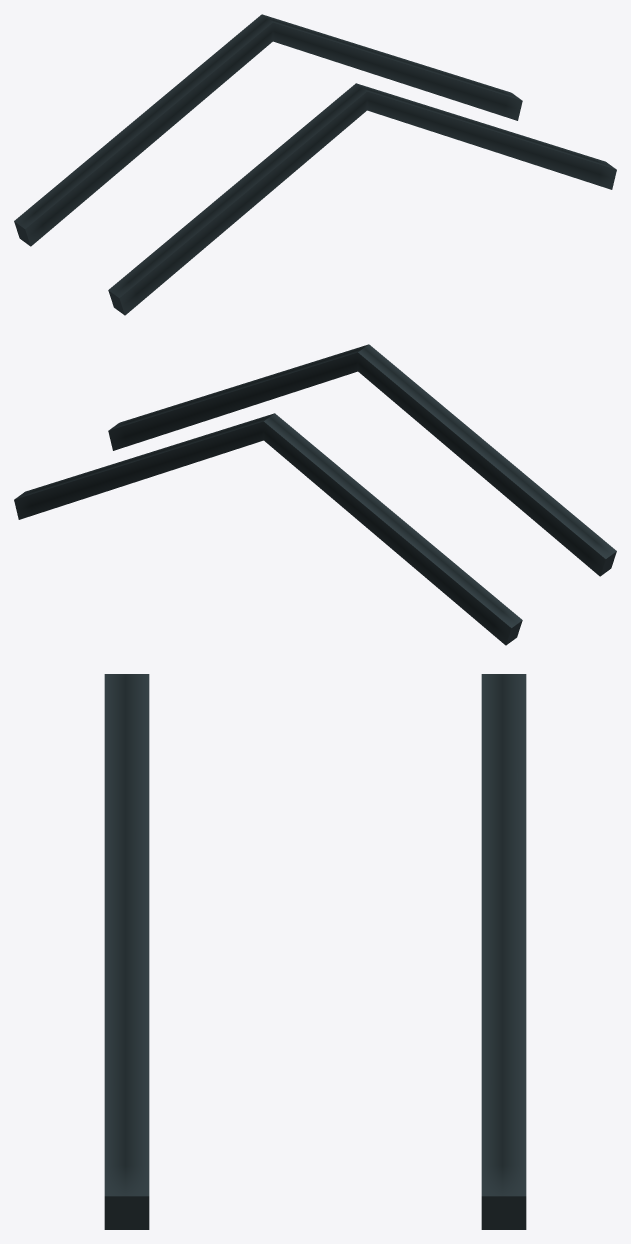
File: roof_beam_v8a001.fbx
3 renders of one model, top to bottom at view 1: azimuth 30°, elevation 25°; view 2: azimuth 150°, elevation 25°; view 3: azimuth 270°, elevation 25°, orthographic. The views are drawn at different scales.
Parts seen in each view (by area): view 1: roof_beam_v8a001; view 2: roof_beam_v8a001; view 3: roof_beam_v8a001.
Part boxes in pixels (x1,y1,x2,y2): roof_beam_v8a001: (14,14,616,315); roof_beam_v8a001: (14,344,616,645); roof_beam_v8a001: (104,674,526,1229).
Size of the model in its own units: 691 by 219 by 254.
